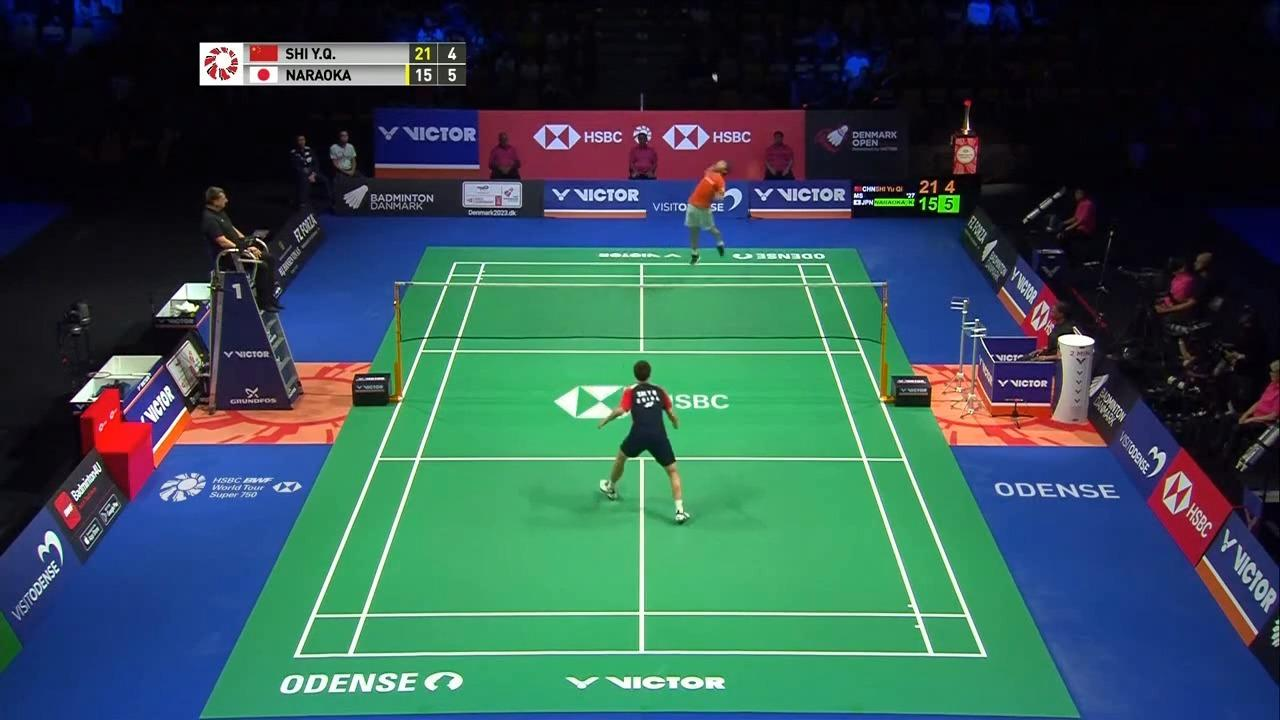shuttle: (710, 70, 721, 84)
